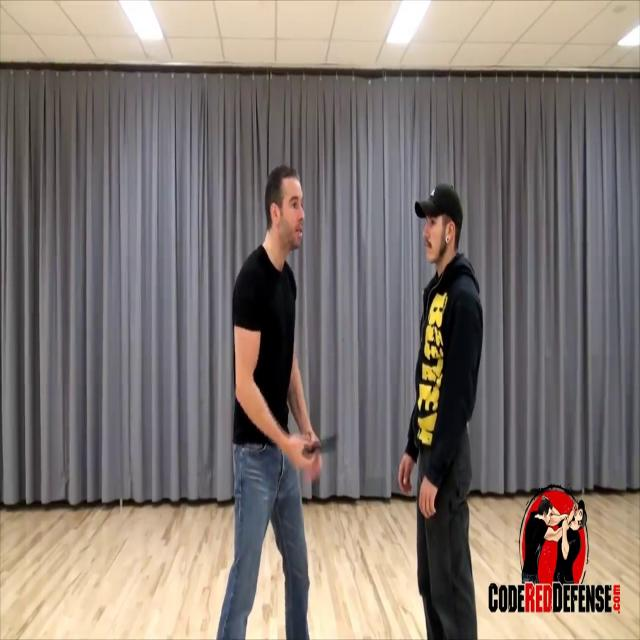Knife_Handle: (288, 434, 338, 468)
